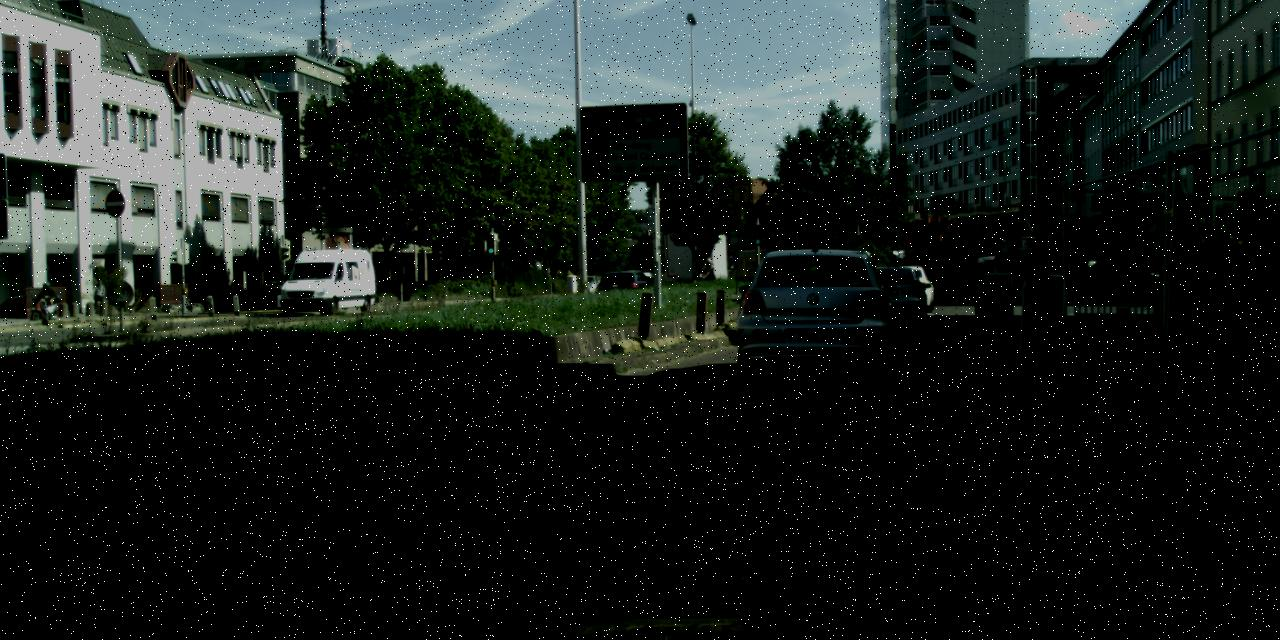ped: (703, 257, 717, 292), (93, 280, 106, 312), (41, 282, 53, 314), (730, 254, 736, 269)
